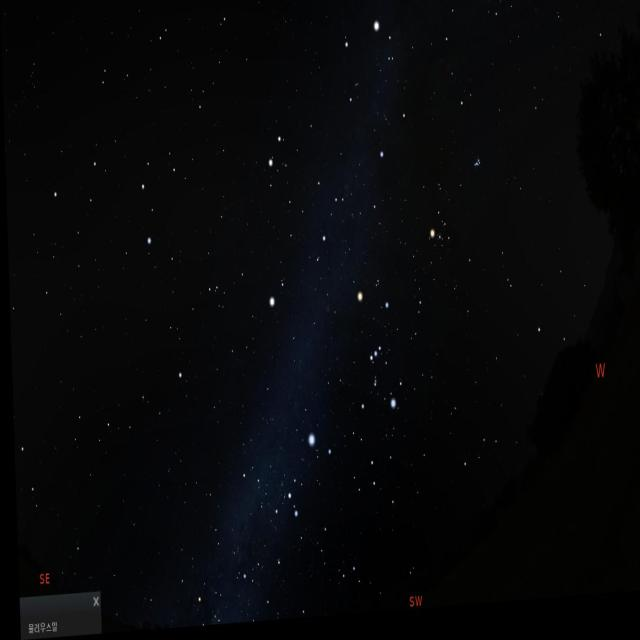canis_major: (280, 436, 338, 544)
canis_minor: (258, 266, 287, 324)
gemini: (258, 128, 365, 274)
leo: (46, 110, 198, 270)
orion: (350, 285, 400, 422)
pleiades: (466, 163, 488, 184)
taurus: (427, 117, 508, 280)
